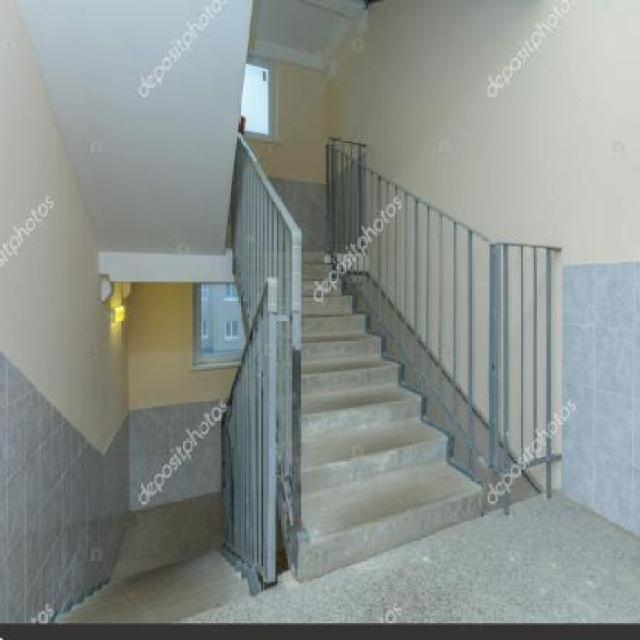stair: (226, 84, 508, 587)
